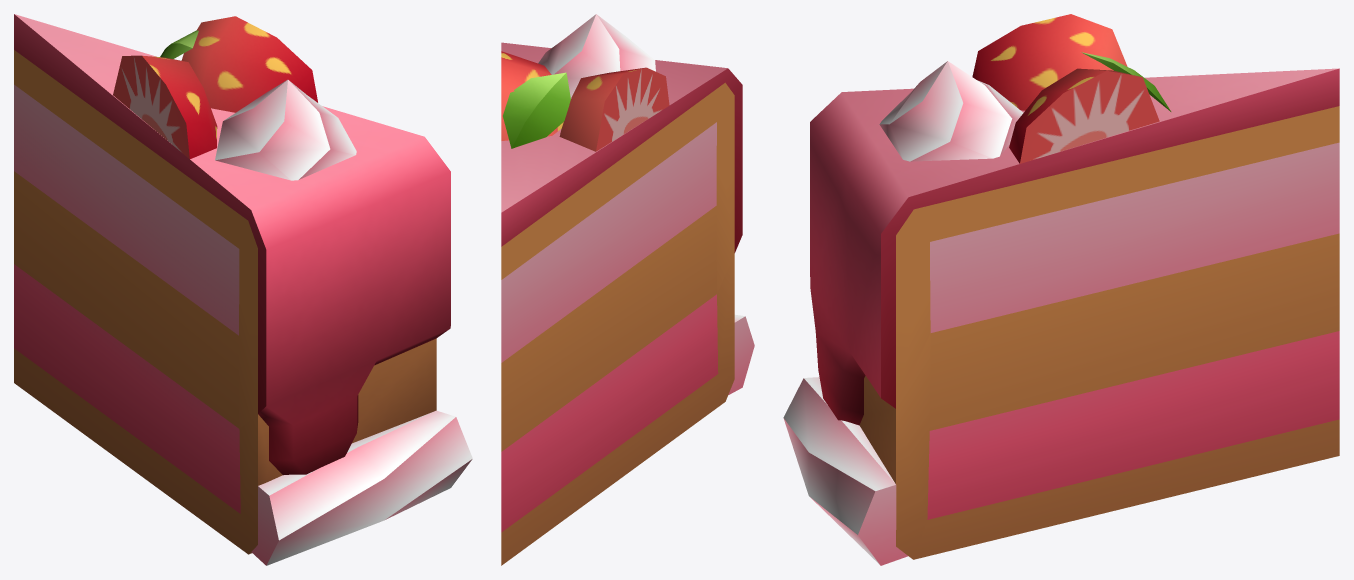
File: m_ValentinesCake01_Slice02.fbx
3 renders of one model, left to right at view 1: azimuth 30°, elevation 25°; view 2: azimuth 150°, elevation 25°; view 3: azimuth 270°, elevation 25°, orthographic. The views are drawn at different scales.
Visible parts, largest first — view 1: m_ValentinesCake01_Slice02; view 2: m_ValentinesCake01_Slice02; view 3: m_ValentinesCake01_Slice02.
Boxes of the visible parts, x1,y1,x2,y2 form: m_ValentinesCake01_Slice02: (14, 14, 472, 565); m_ValentinesCake01_Slice02: (501, 14, 754, 565); m_ValentinesCake01_Slice02: (783, 14, 1339, 565).
Bounding box in the file's own units: 7.6 × 13.37 × 15.21.
